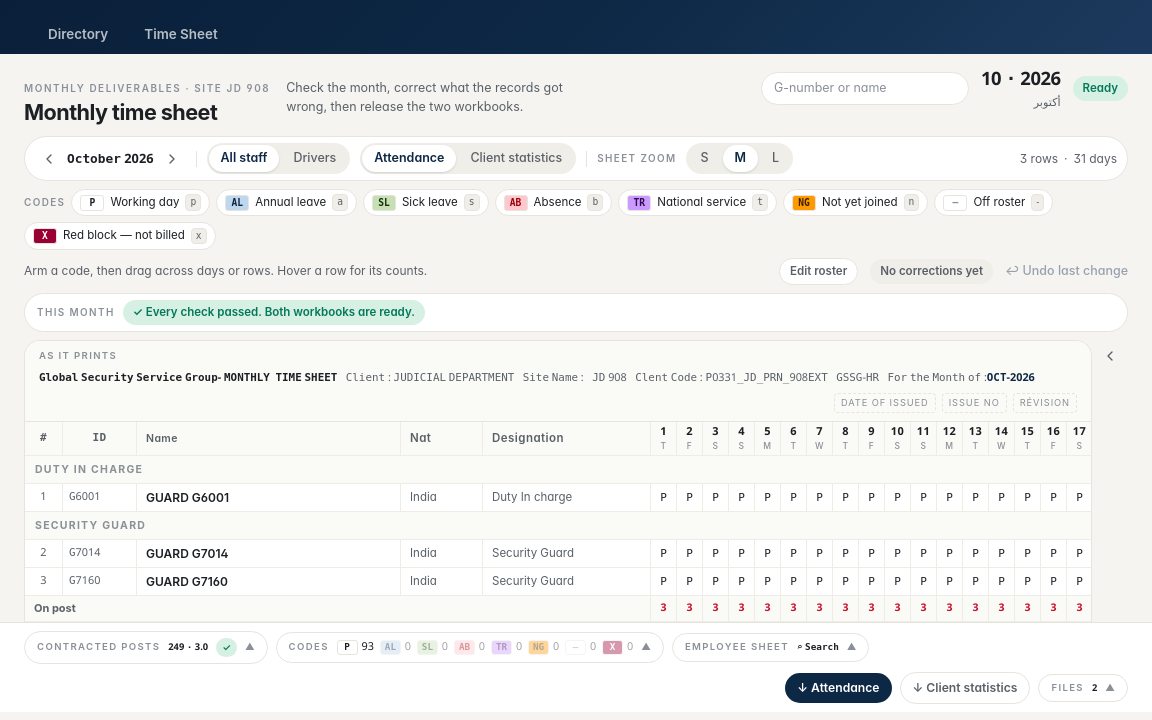
it: moving a man in from the other workbook › stages the move onto this workbook without asking the server
The width and height of the screenshot is (1152, 720).
Check: the text "GUARD G7160" is shown, box left=146, top=574, right=228, bottom=588
Step 1. Click the button "Drivers" → (315, 159), box left=281, top=145, right=348, bottom=172
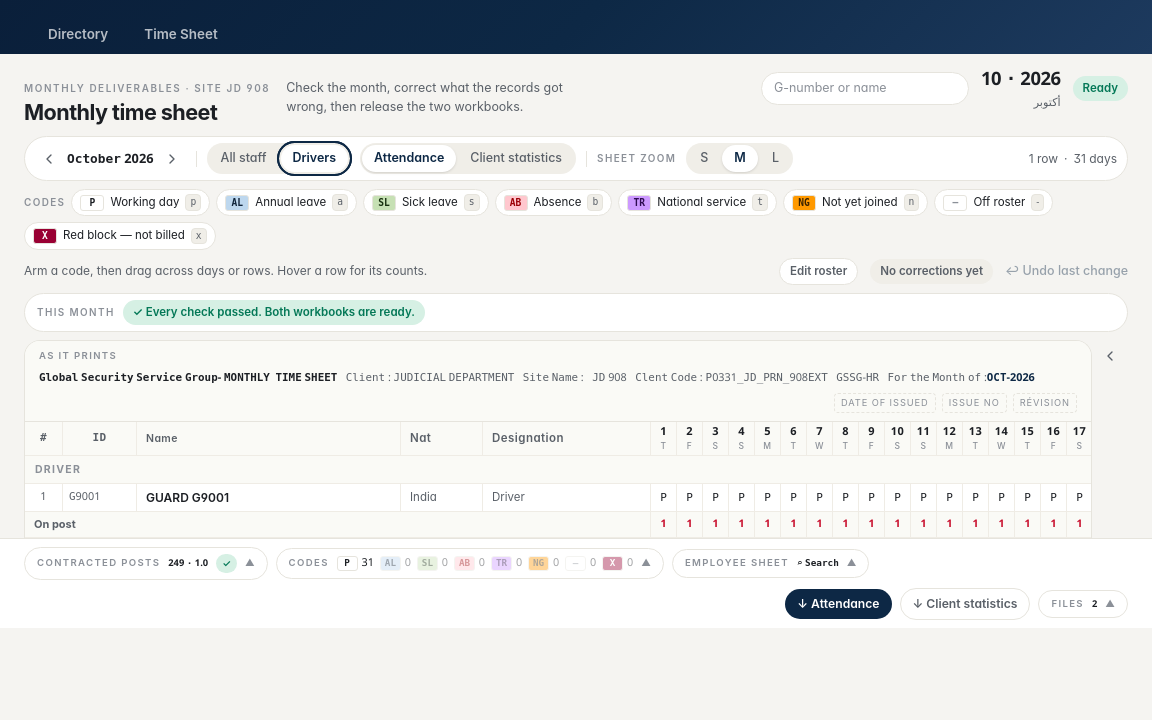
Check: the text "GUARD G9001" is shown, box left=146, top=490, right=229, bottom=504
Step 2. Click the button "Edit roster" → (819, 271), box left=779, top=258, right=858, bottom=285
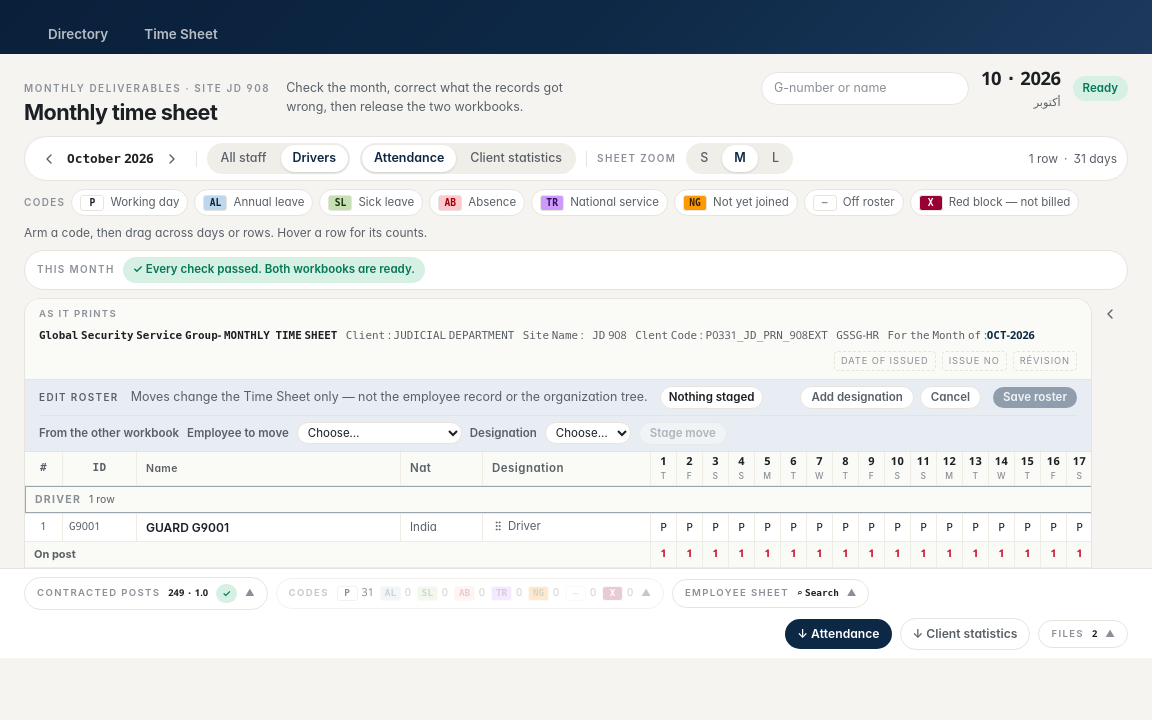
Step 3. Select "G7160 — GUARD G7160" in the dropdown labelled "Employee to move" → (379, 433), box left=297, top=422, right=462, bottom=444
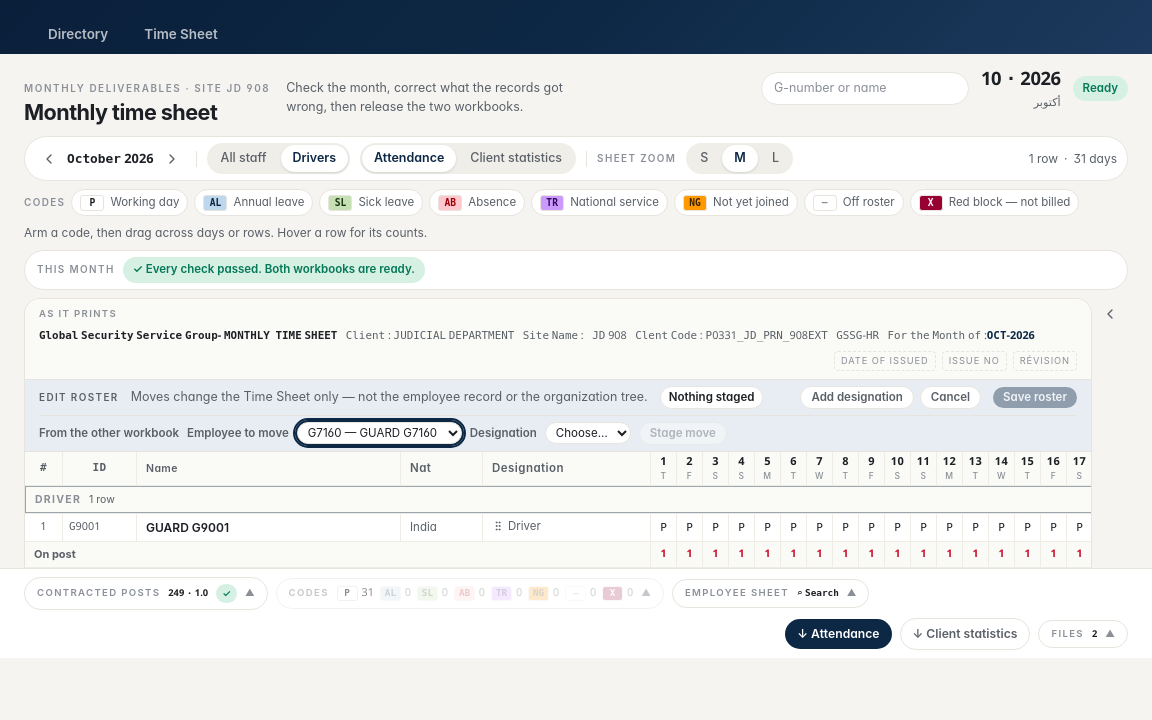
Step 4. Select "Driver" in the dropdown labelled "Designation" → (588, 433), box left=545, top=422, right=631, bottom=444
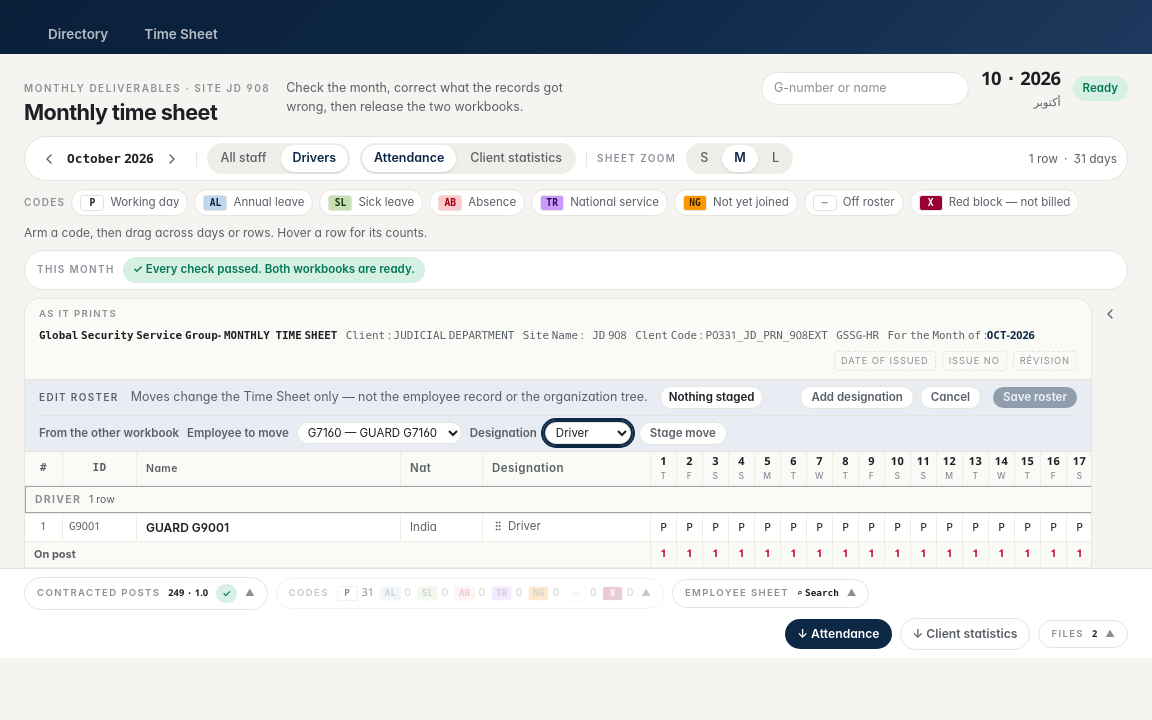
Step 5. Click the button "Stage move" → (683, 433), box left=639, top=422, right=727, bottom=445
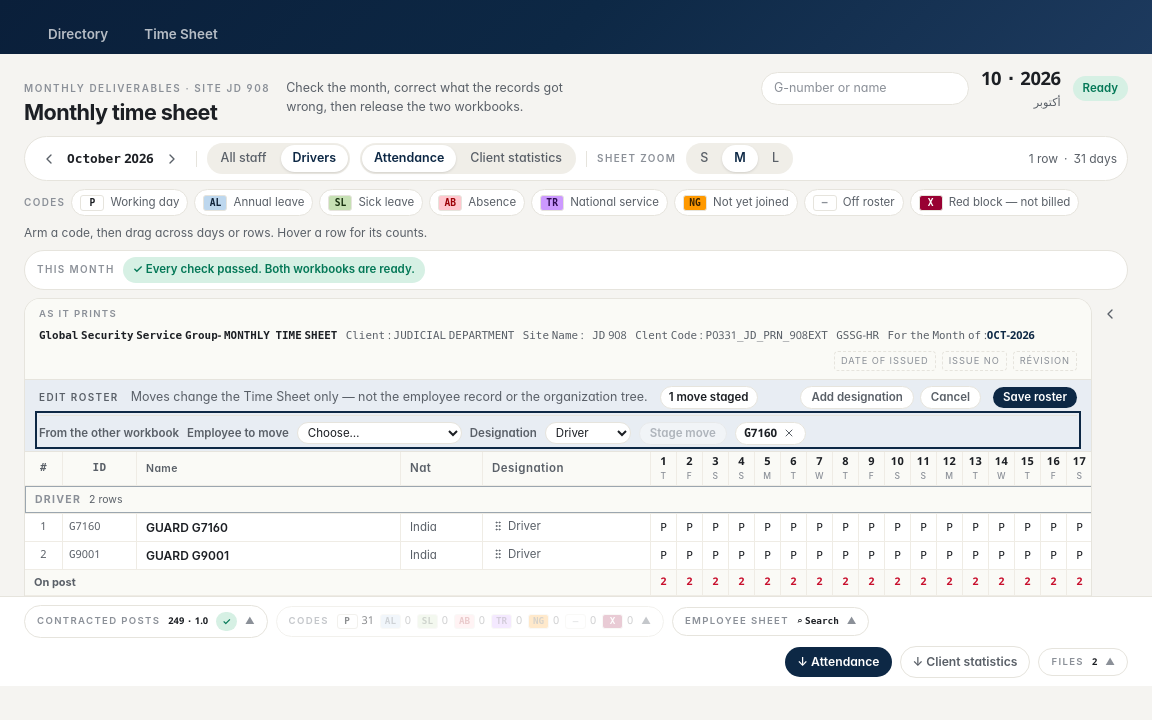
Check: the text "1 move staged" is shown, box left=660, top=386, right=758, bottom=409
